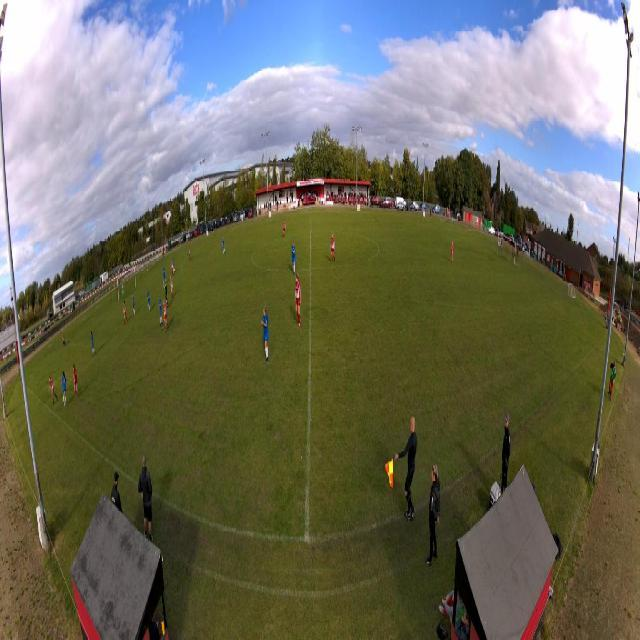player: (260, 306, 270, 365), (294, 274, 302, 331), (48, 373, 58, 405), (72, 364, 79, 400), (62, 371, 68, 407), (163, 279, 170, 309), (163, 298, 169, 332), (157, 296, 163, 327), (291, 239, 296, 275), (90, 330, 96, 358), (330, 233, 335, 264), (169, 272, 174, 303), (123, 298, 128, 327), (162, 264, 167, 288), (146, 289, 151, 311), (132, 293, 136, 317), (450, 240, 454, 262), (222, 235, 226, 256), (282, 219, 286, 238), (121, 282, 125, 301), (171, 257, 174, 276), (188, 244, 191, 262), (173, 256, 176, 273)
